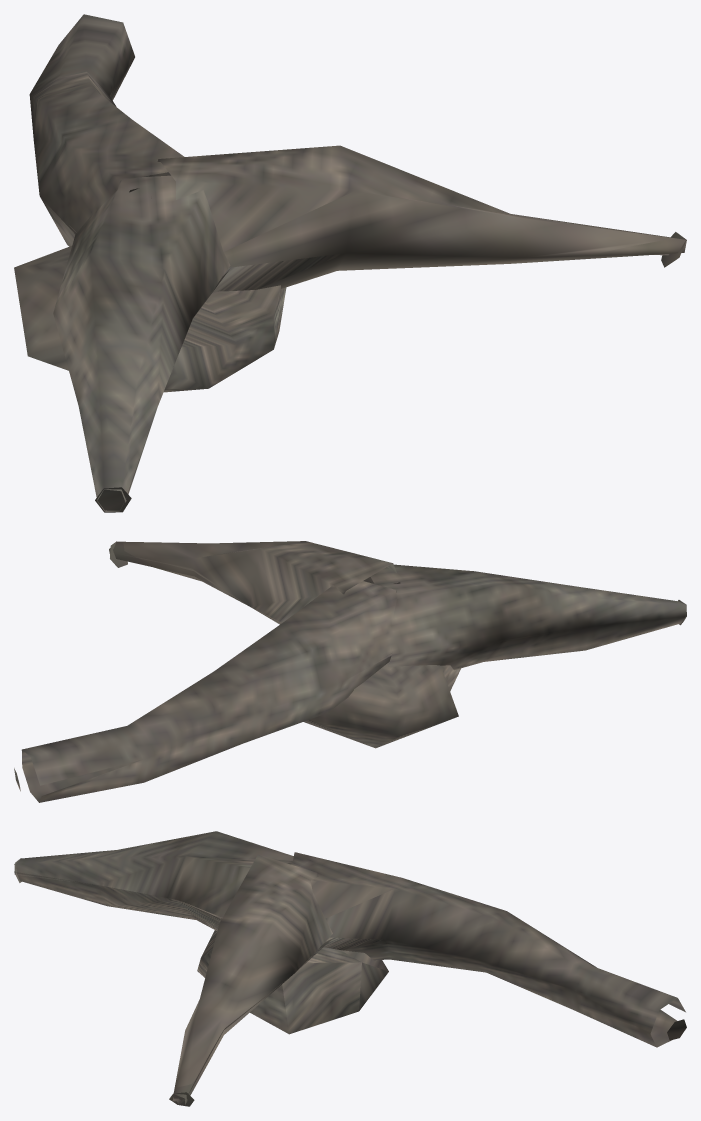
File: roots_surface_01.glb
3 views of the same model, one above another, from view 1: azimuth 30°, elevation 25°; view 2: azimuth 150°, elevation 25°; view 3: azimuth 270°, elevation 25° (orthographic). The views are drawn at different scales.
Parts seen in each view (by area): view 1: roots_surface_01; view 2: roots_surface_01; view 3: roots_surface_01.
Part boxes in pixels (x1,y1,x2,y2): roots_surface_01: (14, 14, 686, 512); roots_surface_01: (14, 541, 686, 802); roots_surface_01: (14, 831, 686, 1106).
Bounding box in the file's own units: 0.6834 × 0.2194 × 0.8169.
Materials: 1 (1 with a texture image).
